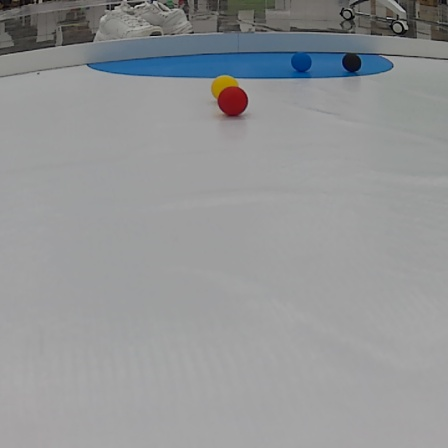black: (343, 53, 364, 71)
blue: (290, 51, 312, 71)
blue_aim: (86, 51, 397, 77)
red: (218, 88, 250, 115)
yellow: (211, 75, 237, 90)
